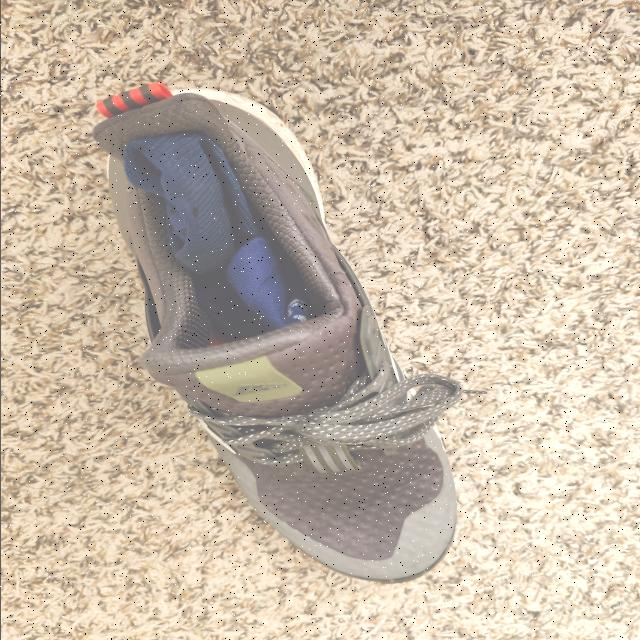black shoes: (146, 238, 412, 568), (186, 294, 188, 304)
